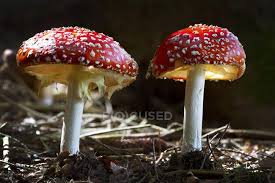Amanita muscaria: (15, 19, 140, 160), (147, 13, 244, 148)
